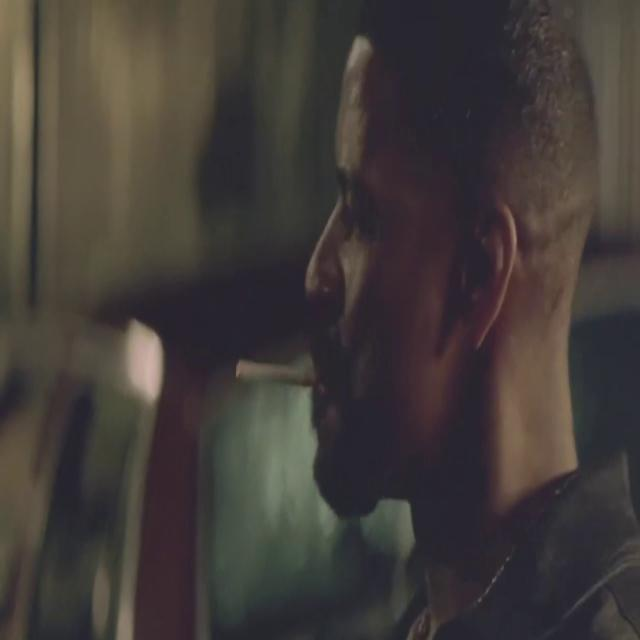Smooking: (228, 342, 318, 422)
